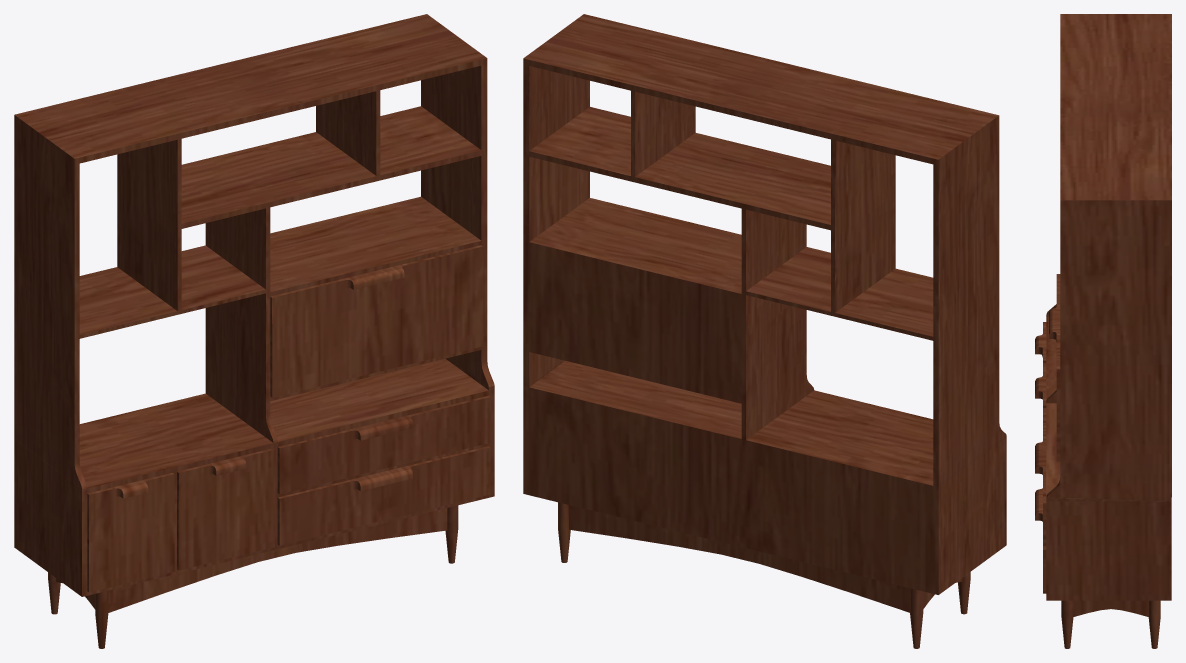
File: dulap.e7c5679e70.glb
3 views of the same model, side by side, from view 1: azimuth 30°, elevation 25°; view 2: azimuth 150°, elevation 25°; view 3: azimuth 270°, elevation 25° (orthographic). The views are drawn at different scales.
Parts seen in each view (by area): view 1: bokahilla_bokahilla1_0; view 2: bokahilla_bokahilla1_0; view 3: bokahilla_bokahilla1_0.
Part boxes in pixels (box(x1,y1,x2,y2)): bokahilla_bokahilla1_0: box(14, 14, 494, 648); bokahilla_bokahilla1_0: box(523, 14, 1006, 648); bokahilla_bokahilla1_0: box(1035, 14, 1171, 648).
Bounding box in the file's own units: 1.71 × 1.97 × 0.5293.
Materials: 1 (1 with a texture image).
